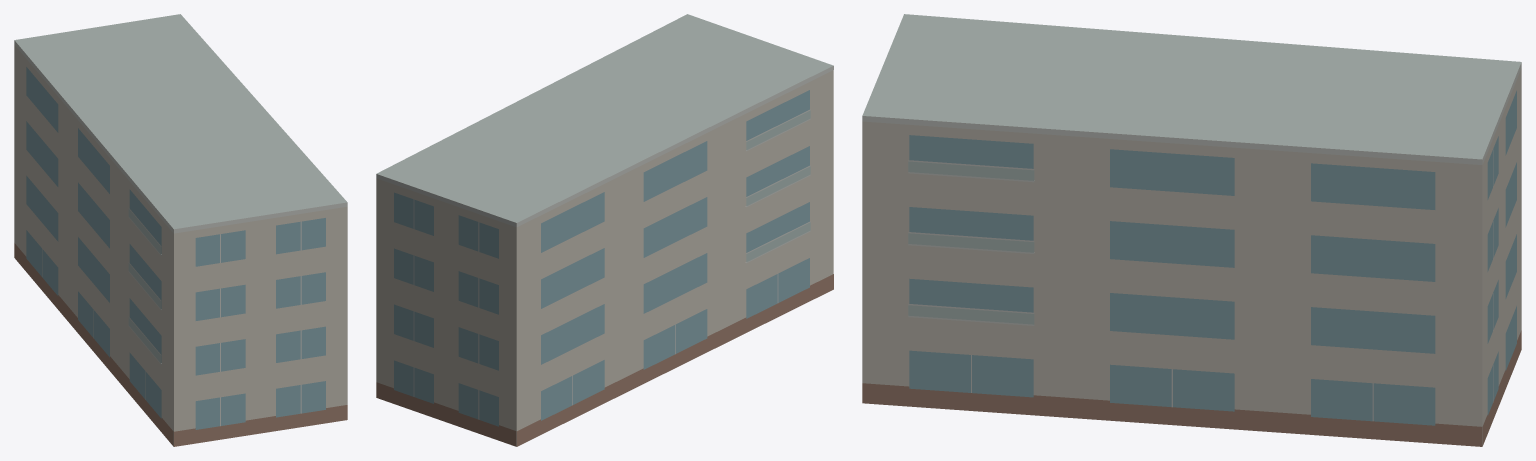
The model's file is survey-upis-32752865.glb.
The picture shows the model from 3 angles, left to right: view 1: azimuth 30°, elevation 25°; view 2: azimuth 150°, elevation 25°; view 3: azimuth 270°, elevation 25°; orthographic projection. The views are drawn at different scales.
Visible parts, largest first — view 1: survey-upis-32752865.tmp; view 2: survey-upis-32752865.tmp; view 3: survey-upis-32752865.tmp.
Part boxes in pixels (x1,y1,x2,y2): survey-upis-32752865.tmp: [14, 14, 347, 446]; survey-upis-32752865.tmp: [376, 14, 833, 446]; survey-upis-32752865.tmp: [862, 14, 1521, 446].
Size of the model in its own units: 13.47 by 12.4 by 25.79.
